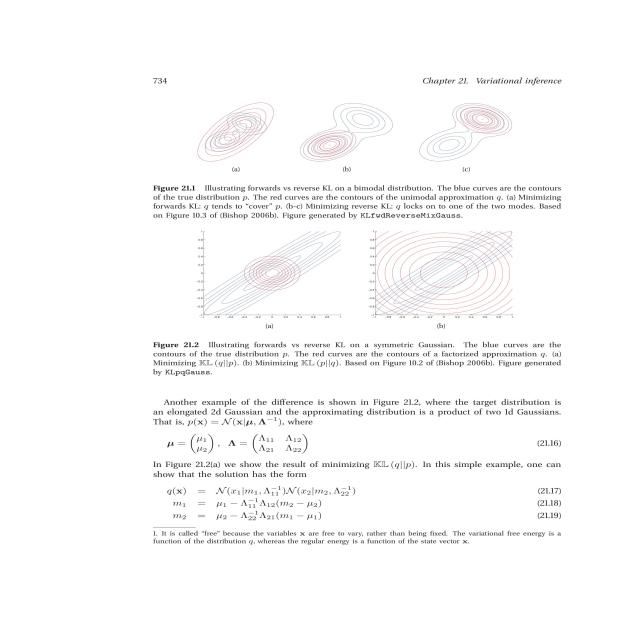diagram: (95, 88, 640, 384)
